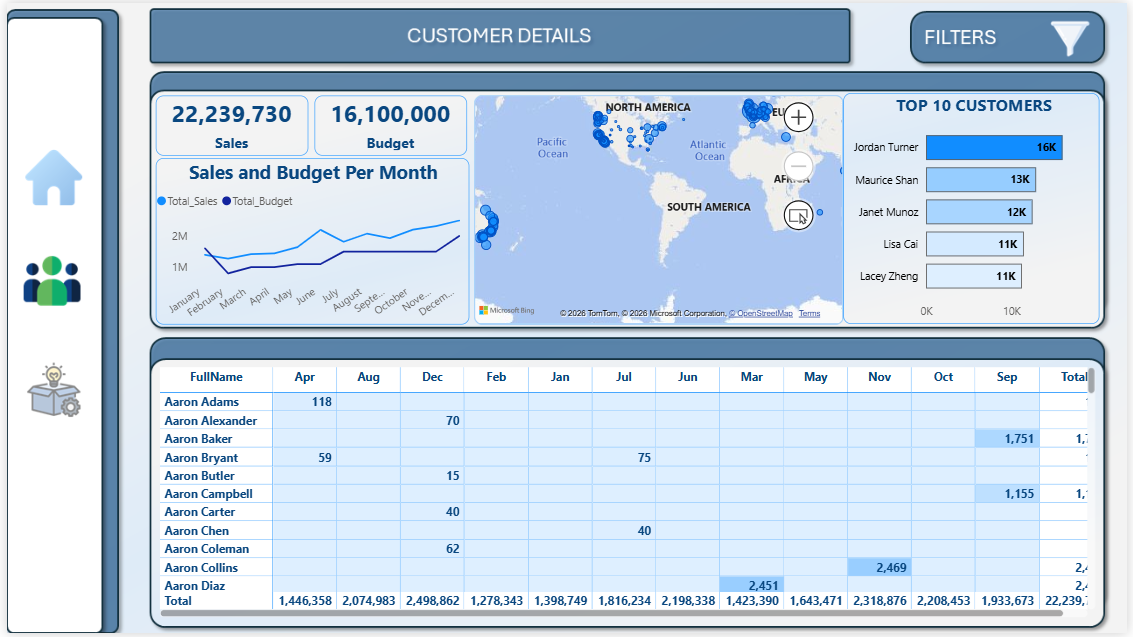

What the dashboard file says about the page in this screenshot:
{"tool":"powerbi","page":{"name":"CustomerDetails","canvas":[1280,720],"ordinal":1},"visuals":[{"type":"actionButton","box":[10,161.2,87.5,86.2],"z":0},{"type":"actionButton","box":[10,278.8,87.5,86.2],"z":1000},{"type":"actionButton","box":[10,401.2,87.5,86.2],"z":2000},{"type":"card","fields":{"Values":["Key_Measures.Total_Sales"]},"box":[170,105.7,174.3,68.6],"z":3000},{"type":"card","fields":{"Values":["Key_Measures.Total_Budget"]},"box":[351.4,105.7,174.3,68.6],"z":4000},{"type":"lineChart","title":"Sales and Budget Per Month","fields":{"Category":["DIM_Calendar.Date.Variation.Date Hierarchy.Month"],"Y":["Key_Measures.Total_Sales","Key_Measures.Total_Budget"]},"box":[170,177.1,358.6,190],"z":5000},{"type":"map","fields":{"Category":["Dim_Customer.CustomerCity"],"Size":["Sum(Fact_InternetSales.SalesAmount)"]},"box":[534.3,105.7,421.4,261.4],"z":6000},{"type":"clusteredBarChart","title":"TOP 10 CUSTOMERS","fields":{"Y":["Sum(Fact_InternetSales.SalesAmount)"],"Category":["Dim_Customer.FullName"]},"box":[955.7,102.9,292.9,264.3],"z":7000},{"type":"pivotTable","fields":{"Rows":["Dim_Customer.FullName"],"Columns":["DIM_Calendar.MonthShort"],"Values":["Key_Measures.Total_Sales"]},"box":[170,411.4,1078.6,295.7],"z":8000},{"type":"actionButton","box":[1036.2,10,217.5,52.5],"z":9001}]}

Visuals, with their boxes on the page's 1280x720 design canvas (x1, y1, x2, y2). These are canvas units, not pixel positions in the 1133x637 screenshot, which may show the page scaled, cropped or inside an application window:
actionButton: <box>10,161,98,247</box>
actionButton: <box>10,279,98,365</box>
actionButton: <box>10,401,98,487</box>
card - Key_Measures.Total_Sales: <box>170,106,344,174</box>
card - Key_Measures.Total_Budget: <box>351,106,526,174</box>
"Sales and Budget Per Month" lineChart: <box>170,177,529,367</box>
map - Dim_Customer.CustomerCity x Sum(Fact_InternetSales.SalesAmount): <box>534,106,956,367</box>
"TOP 10 CUSTOMERS" clusteredBarChart: <box>956,103,1249,367</box>
pivotTable - Dim_Customer.FullName x DIM_Calendar.MonthShort: <box>170,411,1249,707</box>
actionButton: <box>1036,10,1254,62</box>
